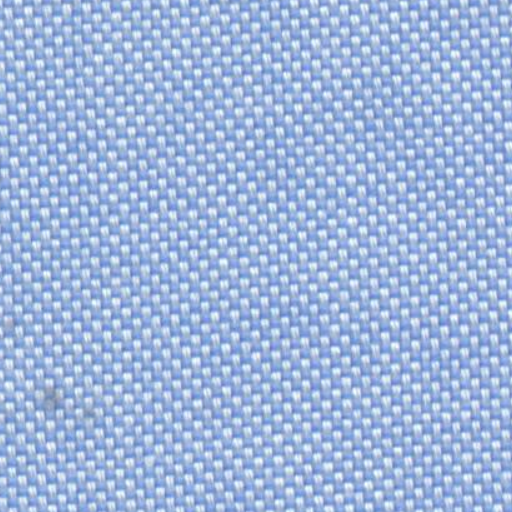WuZi: (32, 366, 96, 426)
